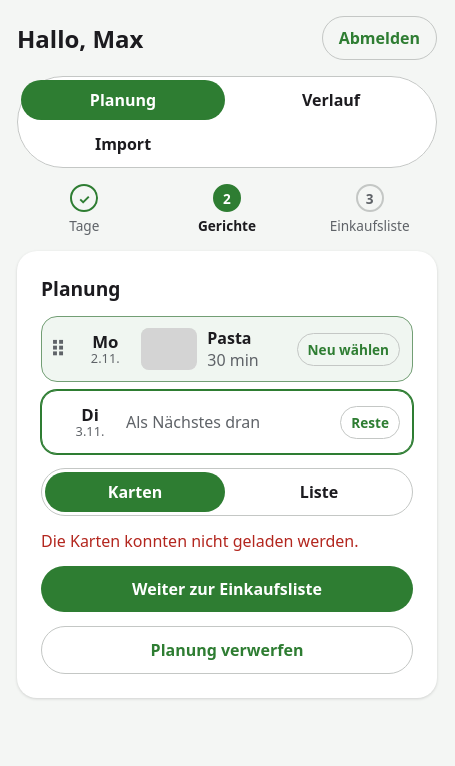
Test: the finalize panel › shows the consolidated list with the lines to check highlighted
Click the button "Weiter zur Einkaufsliste" at x=227, y=589, box x1=41 y1=566 x2=413 y2=612
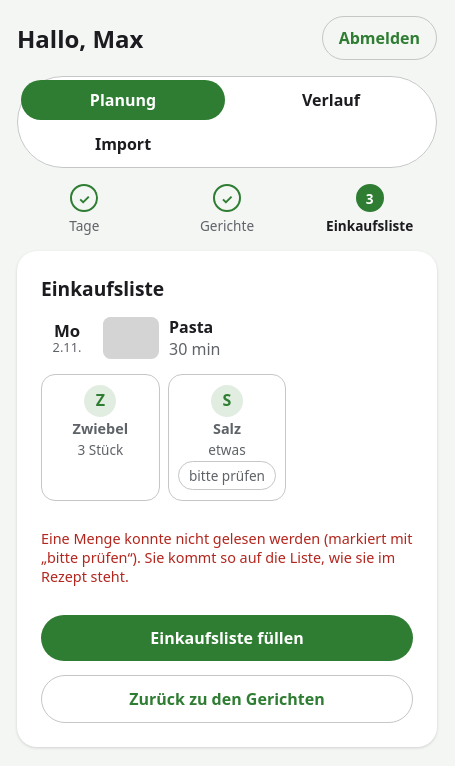
Result: the text "Eine Menge konnte nicht gelesen werden" is shown at x1=41 y1=529 x2=413 y2=586
Result: the button "Einkaufsliste füllen" is enabled at x1=41 y1=615 x2=413 y2=661
